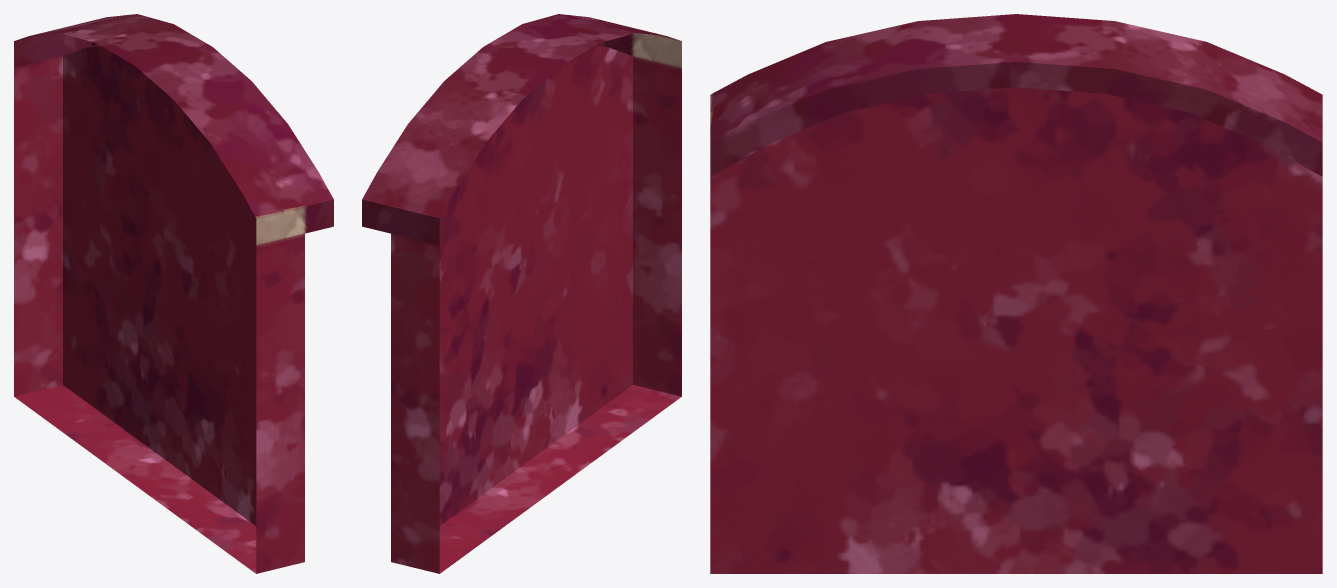
File: techo base.fbx
The picture shows the model from 3 angles, left to right: view 1: azimuth 30°, elevation 25°; view 2: azimuth 150°, elevation 25°; view 3: azimuth 270°, elevation 25°; orthographic projection. The views are drawn at different scales.
Visible parts, largest first — view 1: Cube.117; view 2: Cube.117; view 3: Cube.117.
Part boxes in pixels (bbox=[...]): Cube.117: bbox=[14, 14, 333, 573]; Cube.117: bbox=[362, 14, 681, 573]; Cube.117: bbox=[710, 14, 1322, 573].
Bounding box in the file's own units: 42.92 × 221 × 232.
